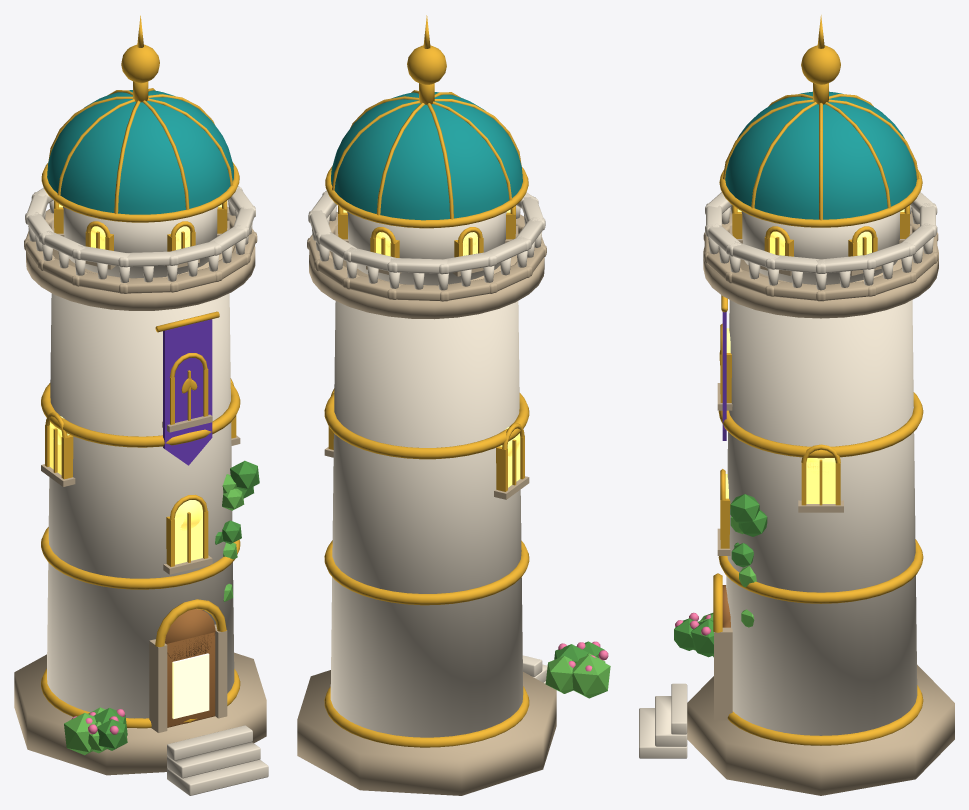
File: turn.glb
3 views of the same model, side by side, from view 1: azimuth 30°, elevation 25°; view 2: azimuth 150°, elevation 25°; view 3: azimuth 270°, elevation 25° (orthographic). The views are drawn at different scales.
Visible parts, largest first — view 1: Turn.001; view 2: Turn.001; view 3: Turn.001.
Boxes of the visible parts, <box> form: Turn.001: <box>14,15,268,795</box>; Turn.001: <box>297,15,610,795</box>; Turn.001: <box>639,15,954,795</box>.
Bounding box in the file's own units: 2.11 × 5.98 × 2.36.
